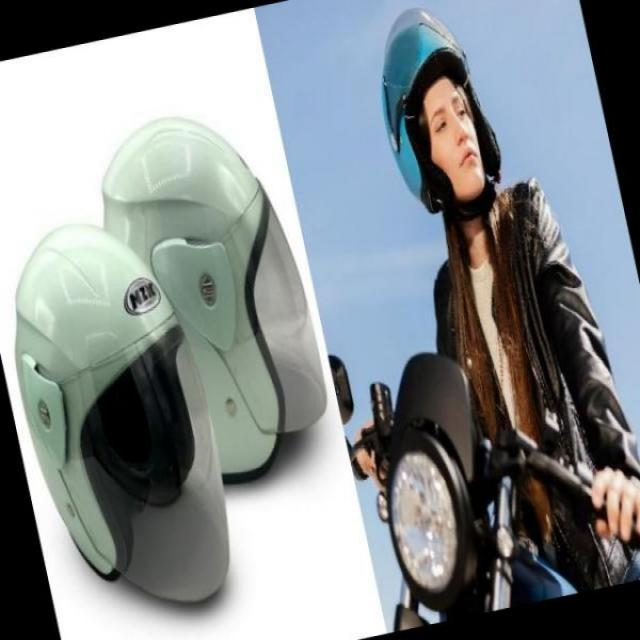Helmet: (31, 206, 244, 603), (79, 141, 325, 477), (376, 0, 522, 260)
